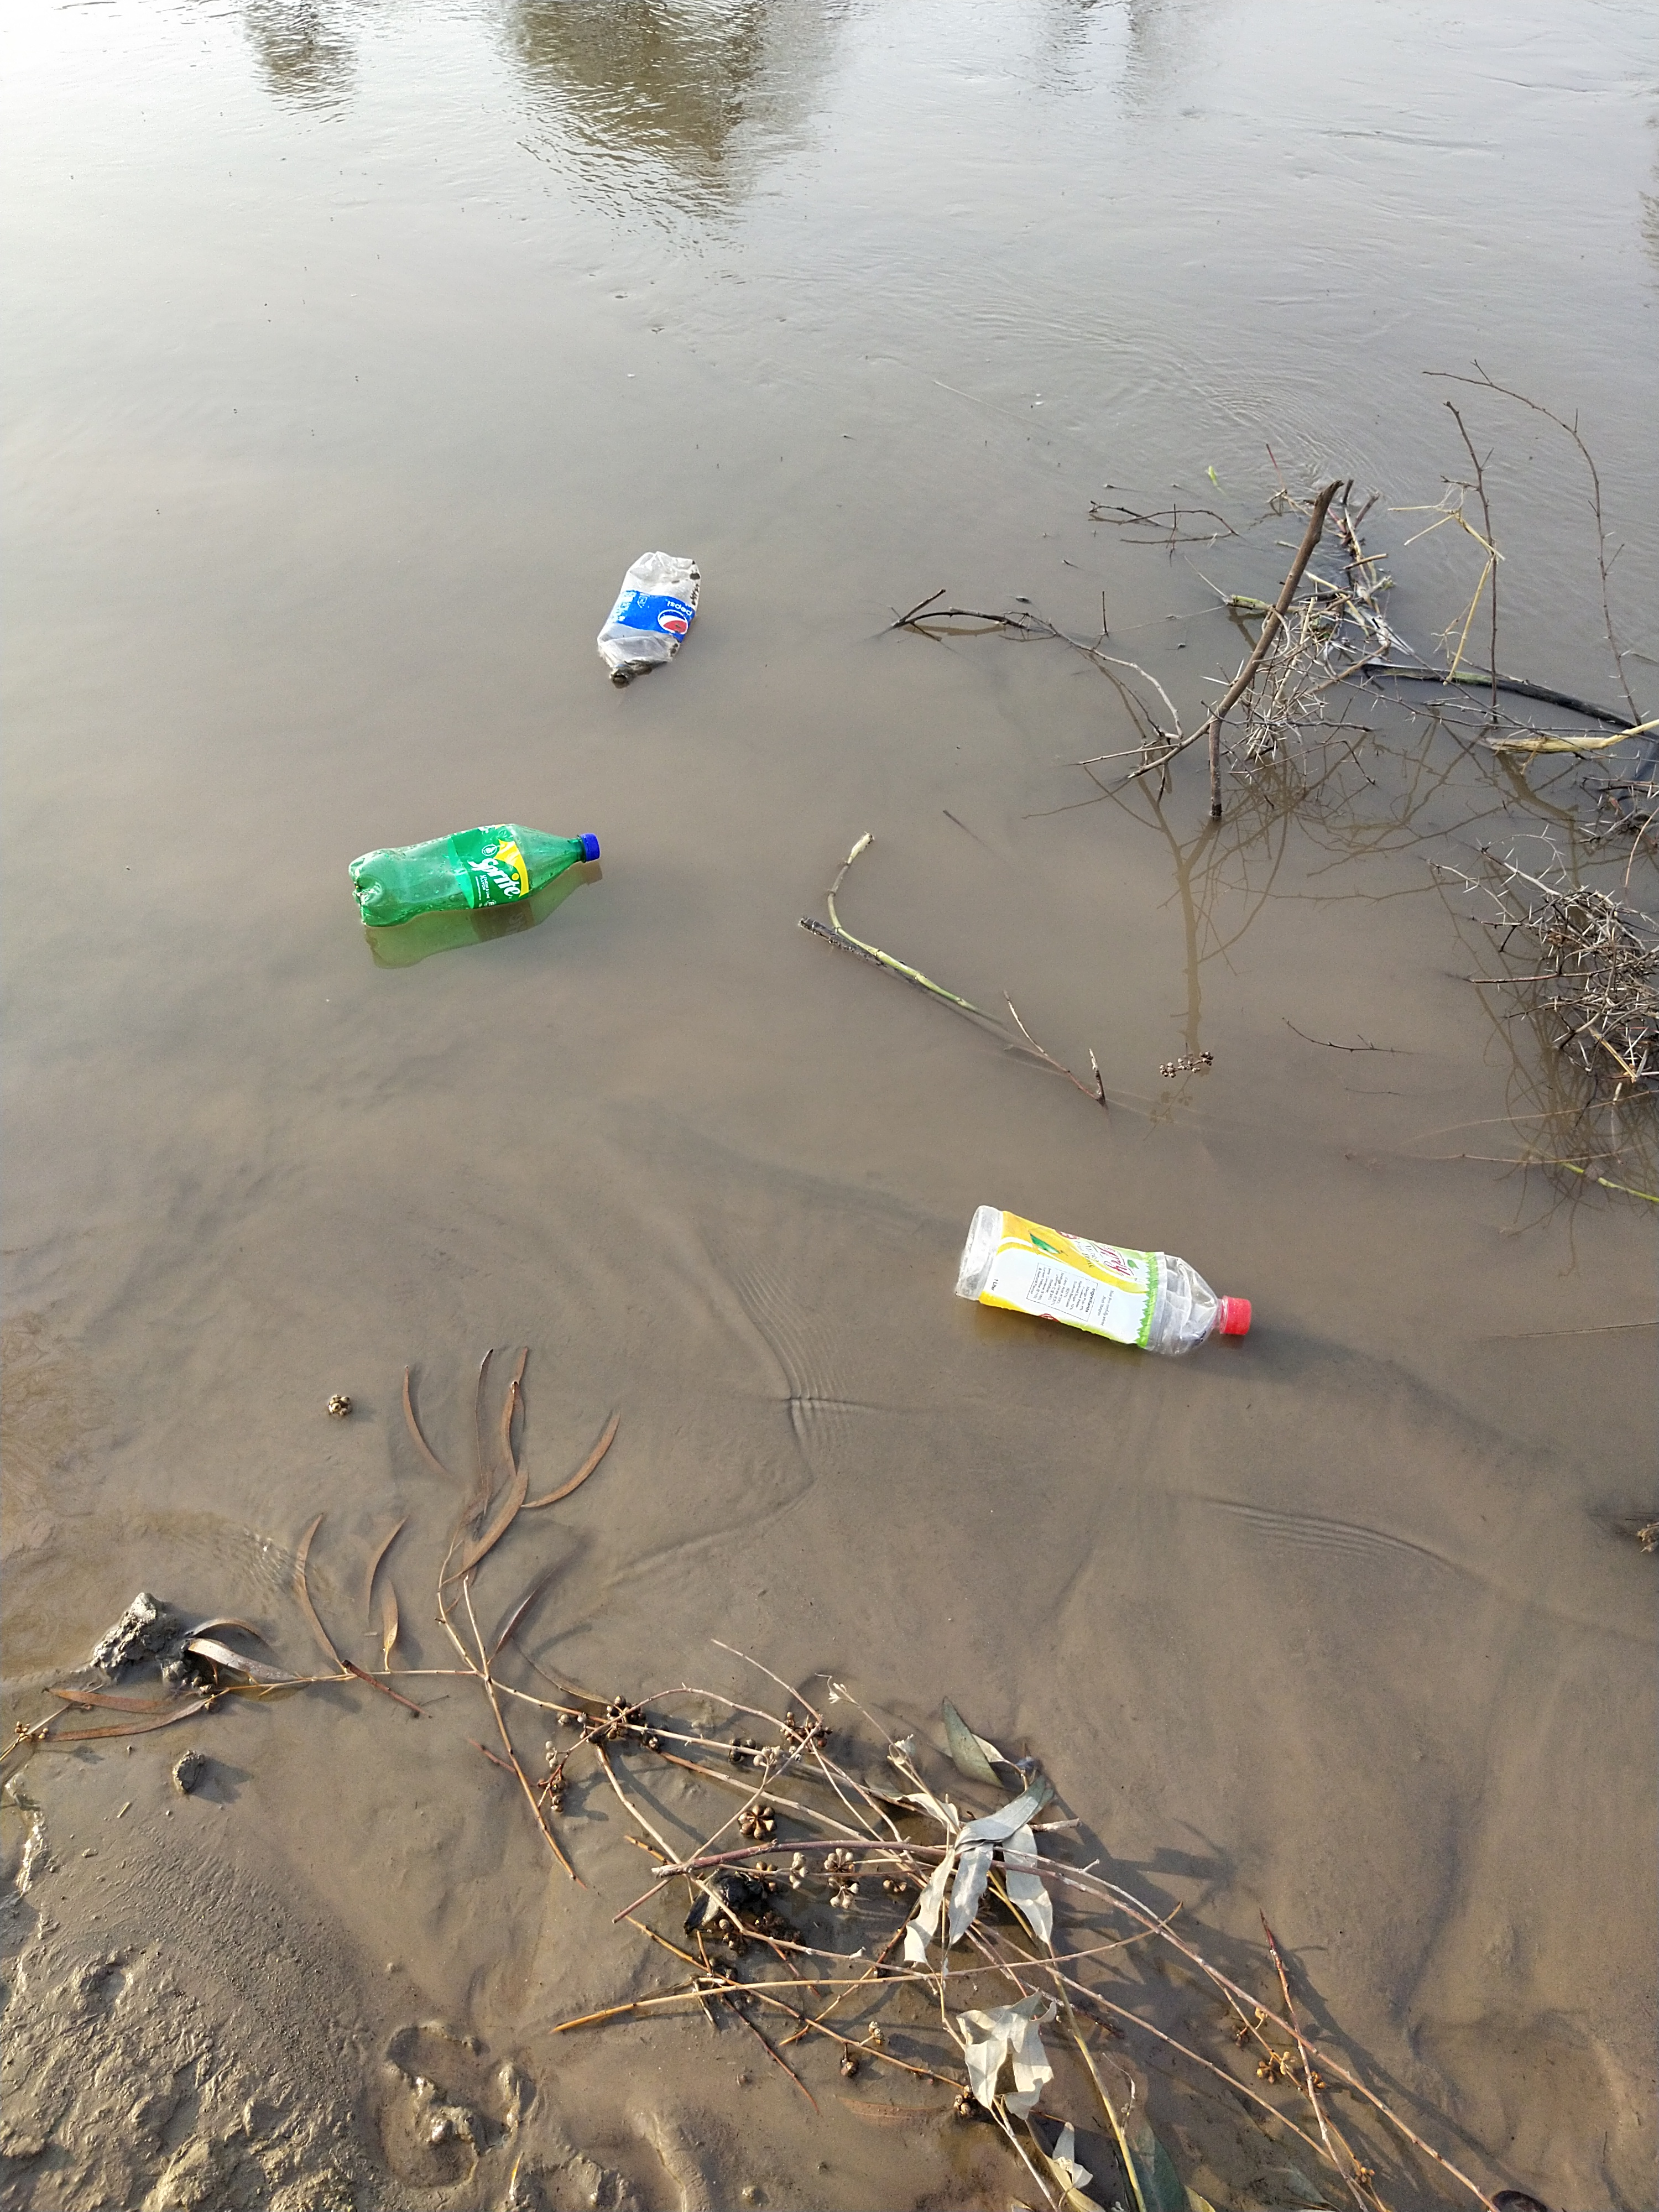Plastic Bottle: (953, 1204, 1251, 1357), (347, 822, 601, 927), (598, 552, 701, 685)
